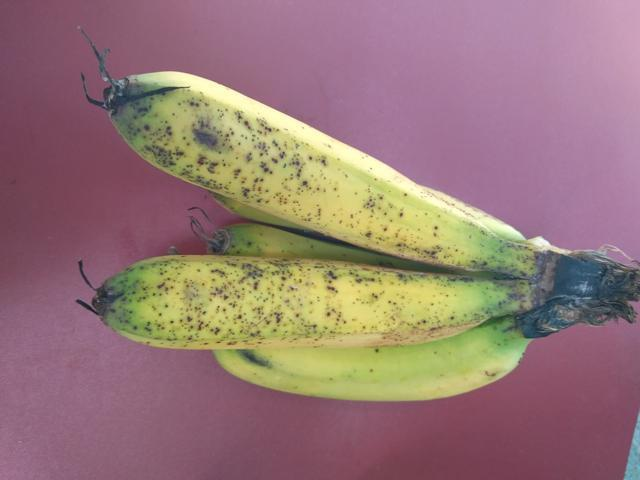freshripe: (214, 317, 542, 433)
ripe: (95, 48, 517, 262), (79, 245, 535, 351)
